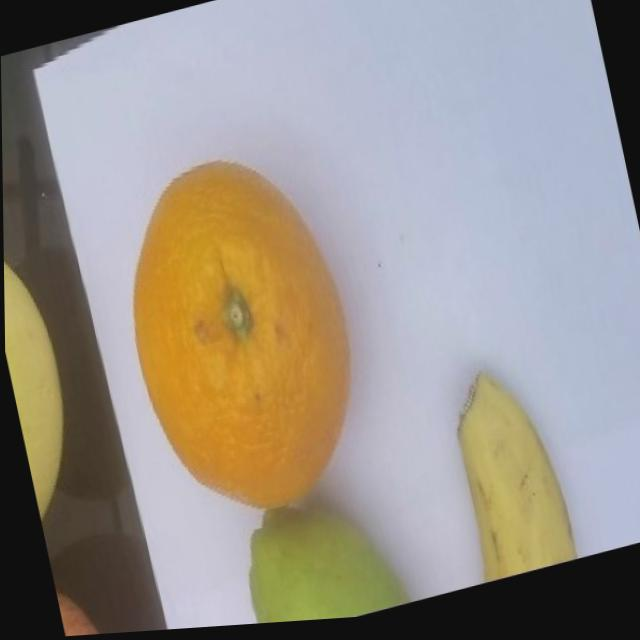Apple: (57, 569, 113, 637)
Banana: (435, 355, 586, 594)
Orange: (102, 138, 377, 540)
